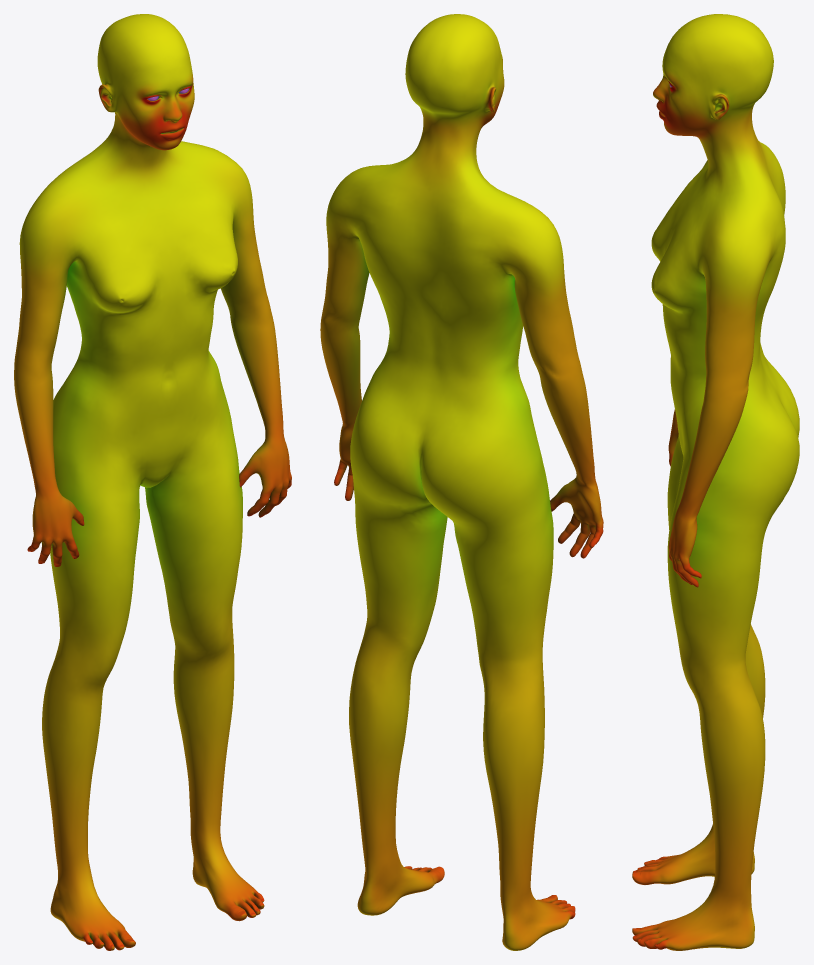
The model's file is female.glb.
The picture shows the model from 3 angles, left to right: view 1: azimuth 30°, elevation 25°; view 2: azimuth 150°, elevation 25°; view 3: azimuth 270°, elevation 25°; orthographic projection.
Parts seen in each view (by area): view 1: body; view 2: body; view 3: body.
Boxes of the visible parts, x1=… form: body: x1=14, y1=14, x2=291, y2=950; body: x1=320, y1=14, x2=603, y2=950; body: x1=632, y1=14, x2=799, y2=950.
Size of the model in its own units: 0.3055 by 1 by 0.1702.
